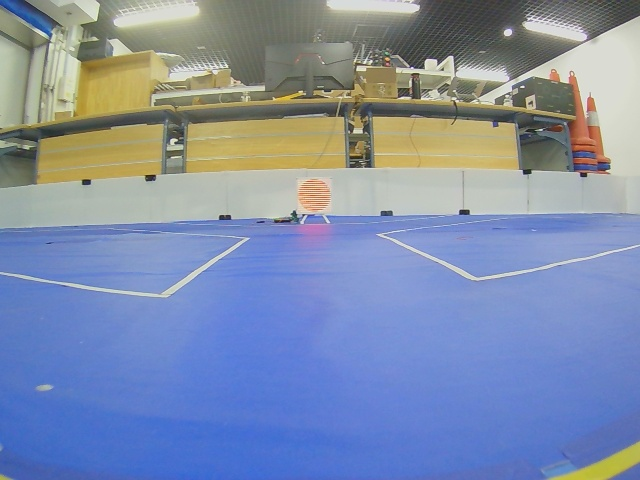red: (298, 178, 331, 214)
